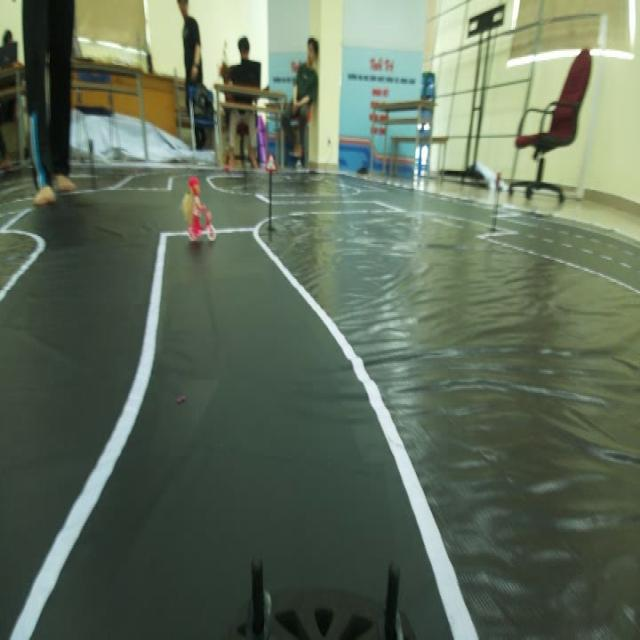pedestrian: (172, 170, 220, 253)
